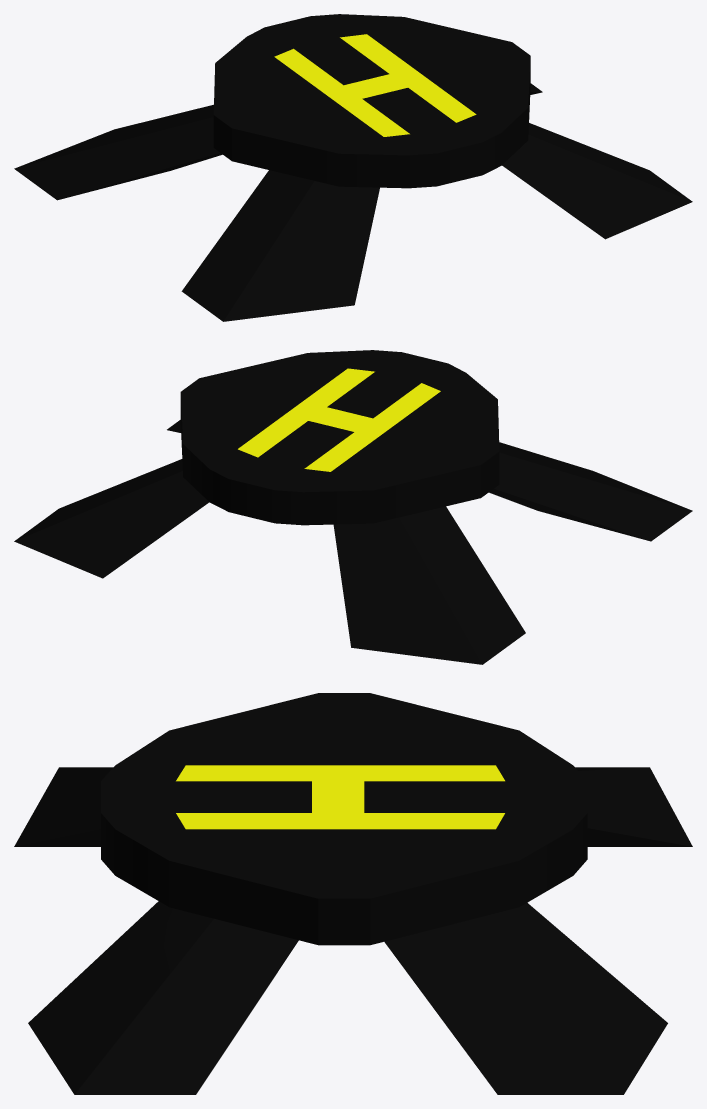
File: gameLandingPadv1.obj
The picture shows the model from 3 angles, top to bottom: view 1: azimuth 30°, elevation 25°; view 2: azimuth 150°, elevation 25°; view 3: azimuth 270°, elevation 25°; orthographic projection. The views are drawn at different scales.
Visible parts, largest first — view 1: pCube1; view 2: pCube1; view 3: pCube1.
Part boxes in pixels (box(x1,y1,x2,y2)): pCube1: box(14, 14, 692, 321); pCube1: box(14, 350, 692, 664); pCube1: box(14, 693, 692, 1094).
Size of the model in its own units: 45.68 by 9.34 by 40.02.
